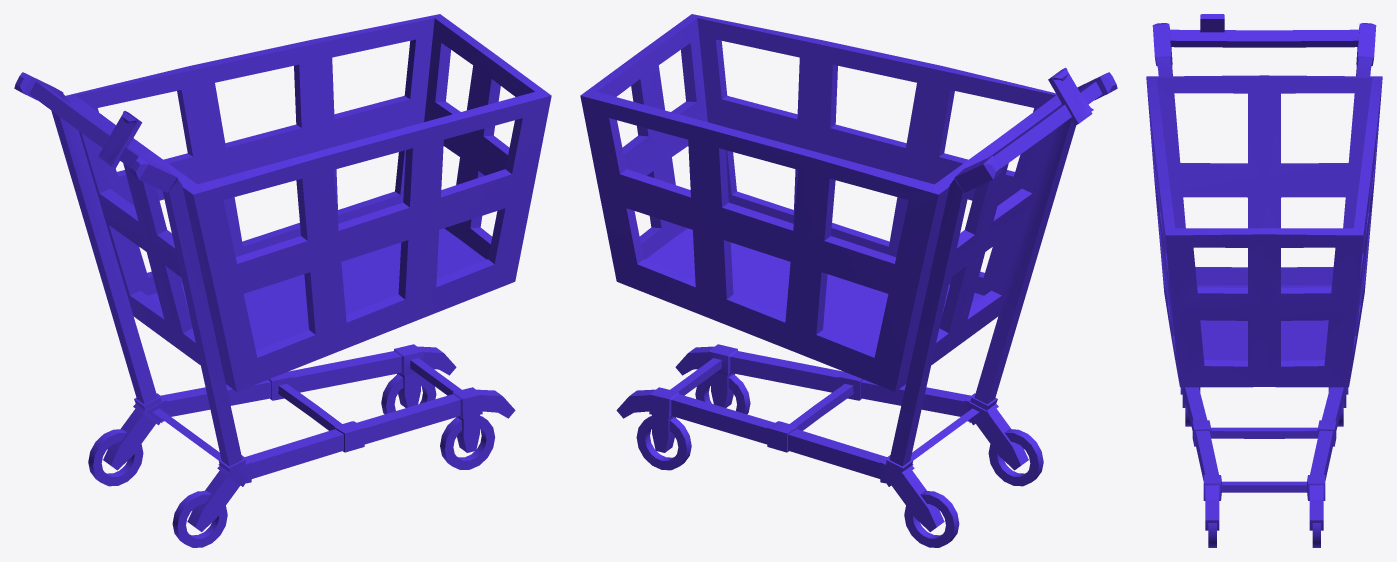
Rendered from simple_shopping_cart.glb.
3 renders of one model, left to right at view 1: azimuth 30°, elevation 25°; view 2: azimuth 150°, elevation 25°; view 3: azimuth 270°, elevation 25°, orthographic. The views are drawn at different scales.
Parts seen in each view (by area): view 1: Cart, CartWheel001, CartWheel; view 2: Cart, CartWheel, CartWheel001; view 3: Cart.
Boxes of the visible parts, bbox=[...] form: Cart: bbox=[14, 14, 551, 547]; CartWheel001: bbox=[440, 415, 495, 469]; CartWheel: bbox=[381, 374, 436, 414]; Cart: bbox=[580, 14, 1117, 547]; CartWheel: bbox=[636, 415, 691, 470]; CartWheel001: bbox=[695, 374, 750, 414]; Cart: bbox=[1146, 14, 1382, 530].
Size of the model in its own units: 114 by 112 by 62.36.
